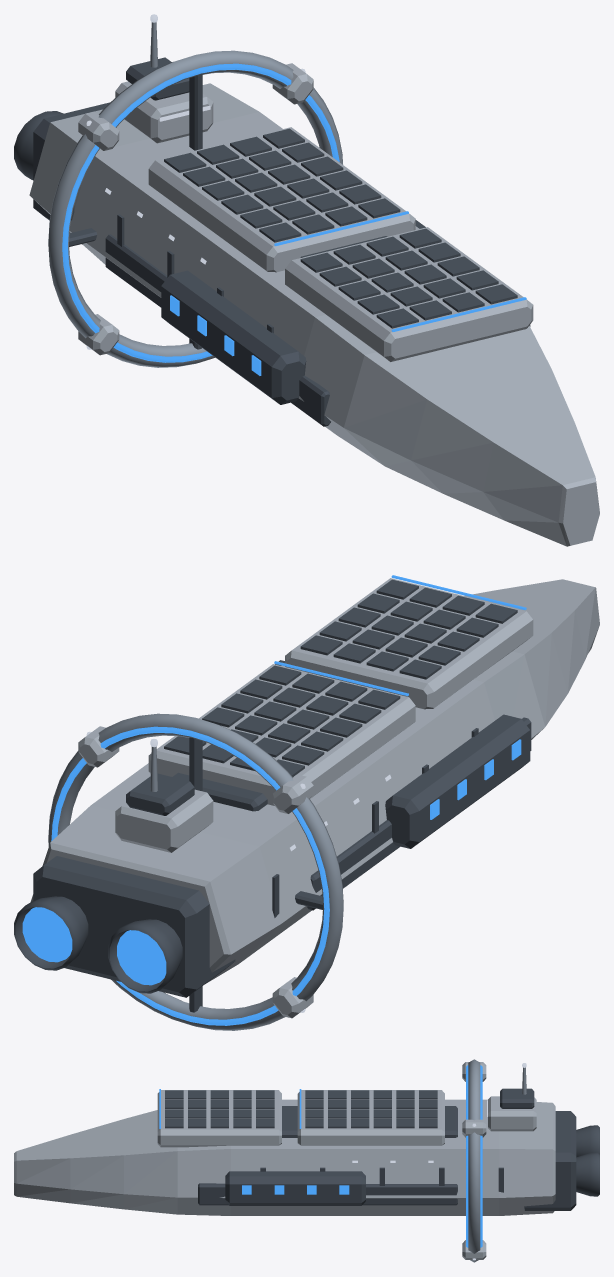
The model's file is missile.glb.
The picture shows the model from 3 angles, top to bottom: view 1: azimuth 30°, elevation 25°; view 2: azimuth 150°, elevation 25°; view 3: azimuth 270°, elevation 25°; orthographic projection. The views are drawn at different scales.
Visible parts, largest first — view 1: hull, hull2, trim, team_glow; view 2: hull, hull2, trim, team_glow; view 3: hull, hull2, trim, team_glow.
Part boxes in pixels (x1,y1,x2,y2): hull: [29, 63, 599, 546]; hull2: [14, 57, 530, 426]; trim: [48, 22, 342, 367]; team_glow: [62, 63, 526, 375]; hull: [30, 578, 599, 1018]; hull2: [14, 579, 531, 1012]; trim: [48, 713, 343, 1030]; team_glow: [22, 575, 526, 1025]; hull: [14, 1062, 555, 1259]; hull2: [165, 1088, 599, 1210]; trim: [468, 1059, 526, 1262]; team_glow: [159, 1065, 482, 1247].
Size of the model in its own units: 3.76 by 3.88 by 10.82.
